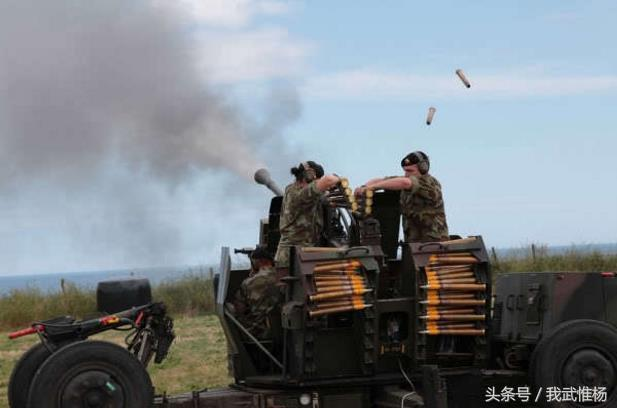MIL_SPG: (10, 160, 617, 408)
